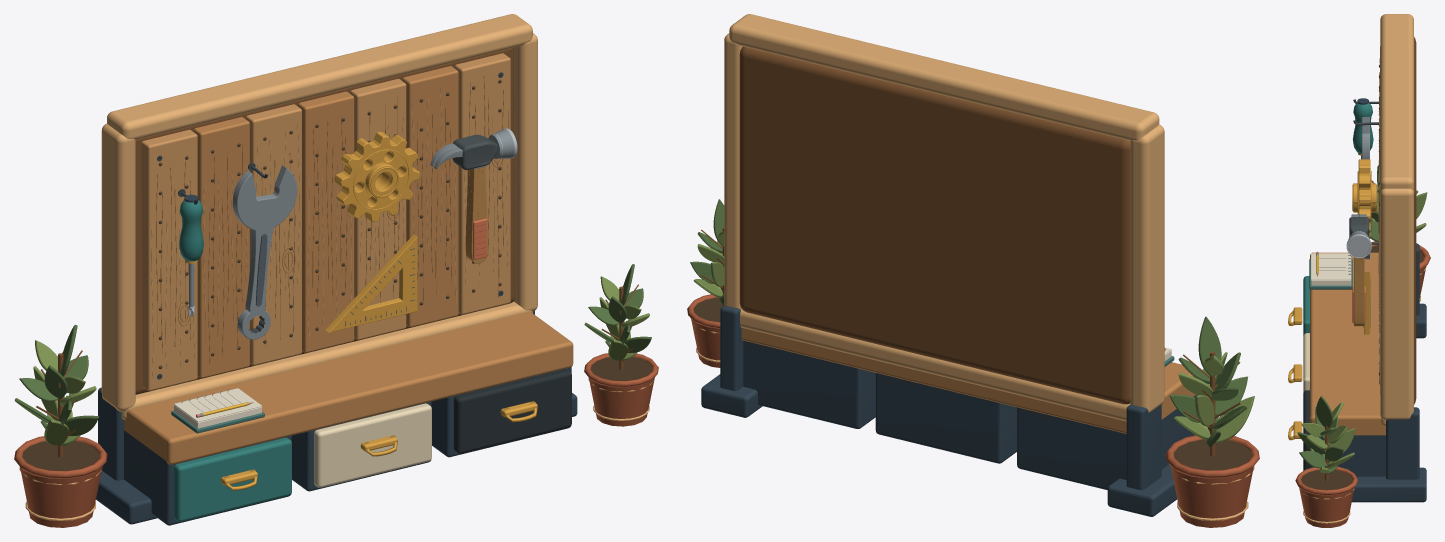
Rendered from workshop-tool-rack-original-border.glb.
3 views of the same model, side by side, from view 1: azimuth 30°, elevation 25°; view 2: azimuth 150°, elevation 25°; view 3: azimuth 270°, elevation 25° (orthographic). The views are drawn at different scales.
Visible parts, largest first — view 1: timber, plank, Refined_Frame_Top, navy, Refined_Frame_Side_-069, brass (×2), pot (×2), Refined_Grey_Drawer, cream, teal, Refined_Frame_Side_069, grain (+10 smaller); view 2: darkWood, navy, Refined_Frame_Top, Refined_Frame_Side_-069, Refined_Frame_Bottom, pot (×2), timber, Refined_Frame_Side_069, soil, Leaf_8, Leaf_1; view 3: timber, Refined_Frame_Side_069, navy, Refined_Frame_Top, pot (×2), brass (×2), Notebook, darkWood, soil, Wood_Handle, Refined_Original_Yellow_Handles, Teal_Handle (+15 smaller).
Boxes of the visible parts, x1,y1,x2,y2 form: timber: (124,66,573,464); plank: (141,53,510,390); Refined_Frame_Top: (107,14,532,139); navy: (96,311,577,525); Refined_Frame_Side_-069: (101,123,135,411); brass (×2): (325,131,419,332); pot (×2): (14,353,658,527); Refined_Grey_Drawer: (453,369,571,453); cream: (314,403,431,487); teal: (174,437,291,521); Refined_Frame_Side_069: (513,33,537,311); grain: (156,76,503,363); darkWood: (739,46,1130,404); navy: (701,305,1197,516); Refined_Frame_Top: (729,14,1159,140); Refined_Frame_Side_-069: (1130,125,1164,412); Refined_Frame_Bottom: (740,309,1130,421); pot (×2): (687,294,1259,527); timber: (741,327,1195,433); Refined_Frame_Side_069: (724,33,742,309); soil: (1173,439,1251,470); Leaf_8: (1198,316,1221,376); Leaf_1: (1215,396,1254,442); timber: (1310,68,1385,435); Refined_Frame_Side_069: (1380,188,1413,420); navy: (1313,243,1426,502); Refined_Frame_Top: (1380,14,1413,189); pot (×2): (1295,241,1430,527); brass (×2): (1352,159,1377,334); Notebook: (1309,253,1352,289); darkWood: (1414,37,1416,404); soil: (1301,470,1352,489); Wood_Handle: (1354,257,1364,326); Refined_Original_Yellow_Handles: (1288,307,1302,440); Teal_Handle: (1352,103,1373,153).
Bounding box in the file's own units: 2.04 × 1.25 × 0.5082.
